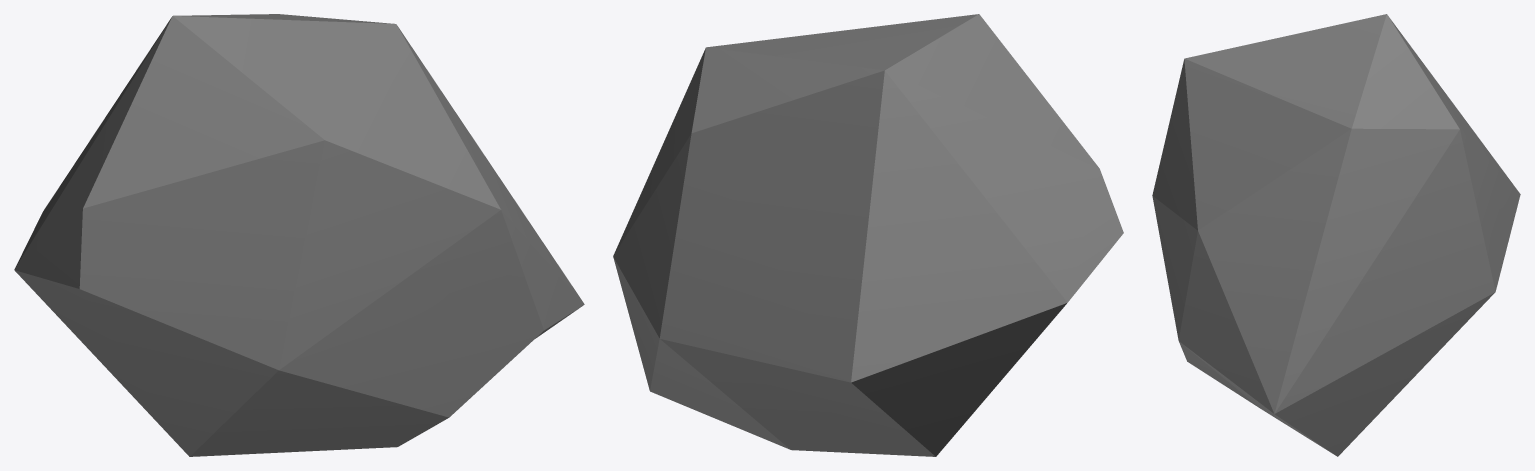
The model's file is rock_medium.fbx.
The picture shows the model from 3 angles, left to right: view 1: azimuth 30°, elevation 25°; view 2: azimuth 150°, elevation 25°; view 3: azimuth 270°, elevation 25°; orthographic projection. The views are drawn at different scales.
Visible parts, largest first — view 1: rock_medium; view 2: rock_medium; view 3: rock_medium.
Boxes of the visible parts, x1,y1,x2,y2 form: rock_medium: (14,14,584,456); rock_medium: (613,14,1123,456); rock_medium: (1152,14,1520,456).
Bounding box in the file's own units: 0.6402 × 0.4889 × 0.4852.
Materials: 1 (1 with a texture image).
